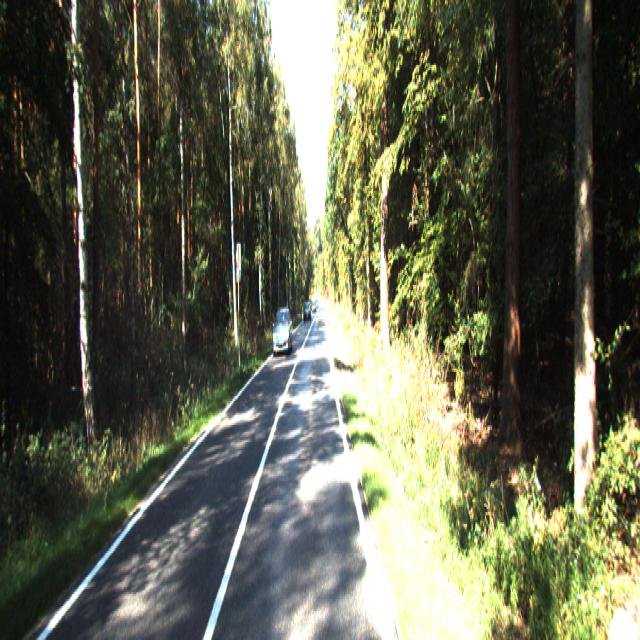Car: (272, 304, 294, 358)
